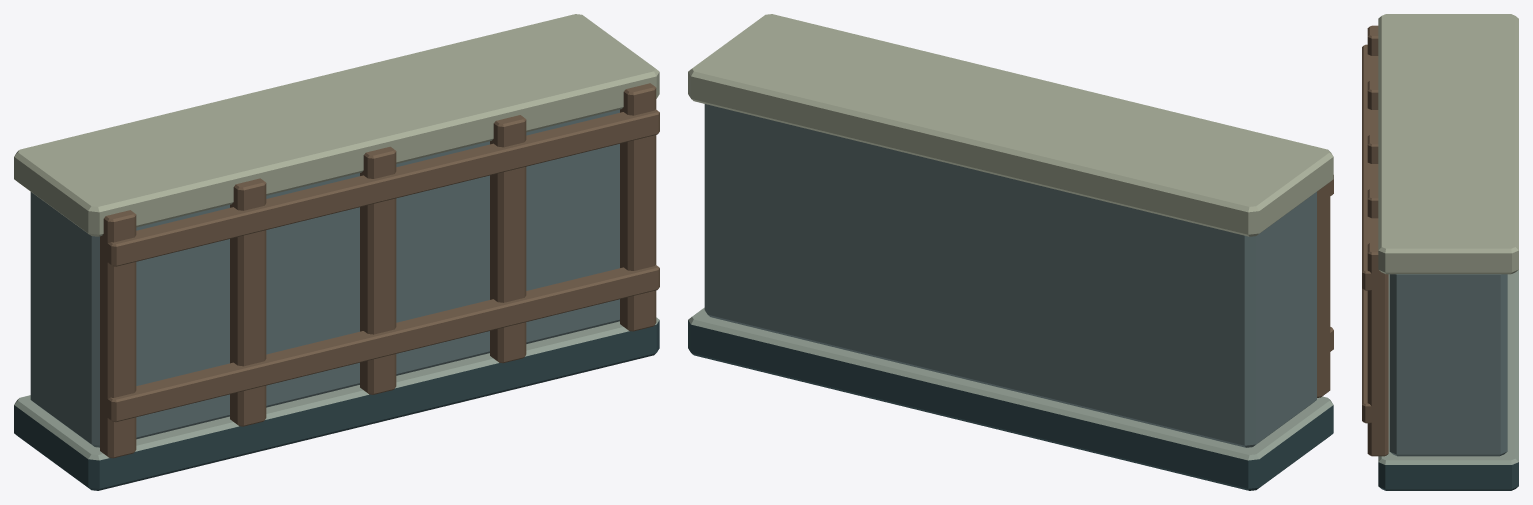
Rendered from wall-straight.glb.
The picture shows the model from 3 angles, left to right: view 1: azimuth 30°, elevation 25°; view 2: azimuth 150°, elevation 25°; view 3: azimuth 270°, elevation 25°; orthographic projection. The views are drawn at different scales.
Parts seen in each view (by area): view 1: wall-straight__body; view 2: wall-straight__body; view 3: wall-straight__body.
Part boxes in pixels (x1,y1,x2,y2): wall-straight__body: (14, 14, 659, 490); wall-straight__body: (688, 14, 1333, 490); wall-straight__body: (1362, 14, 1518, 490).
Bounding box in the file's own units: 2 × 0.95 × 0.5575.
